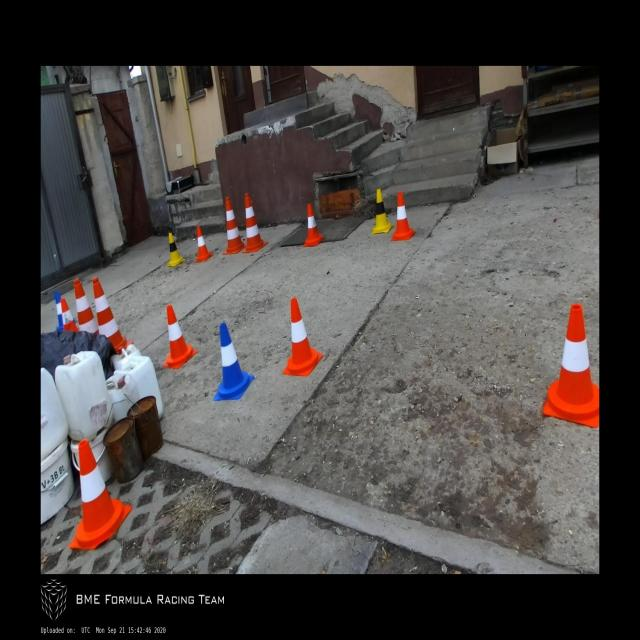blue_cone: (213, 322, 254, 400), (55, 292, 78, 331)
large_orange_cone: (92, 277, 133, 355), (241, 192, 269, 253), (73, 278, 99, 333), (223, 197, 247, 254)
orange_cone: (542, 304, 600, 428), (68, 439, 132, 551), (282, 298, 324, 377), (163, 304, 198, 369), (390, 191, 416, 241), (303, 203, 325, 247), (60, 298, 79, 332), (196, 226, 213, 262)
yellow_cone: (372, 188, 394, 234), (168, 232, 185, 266)
